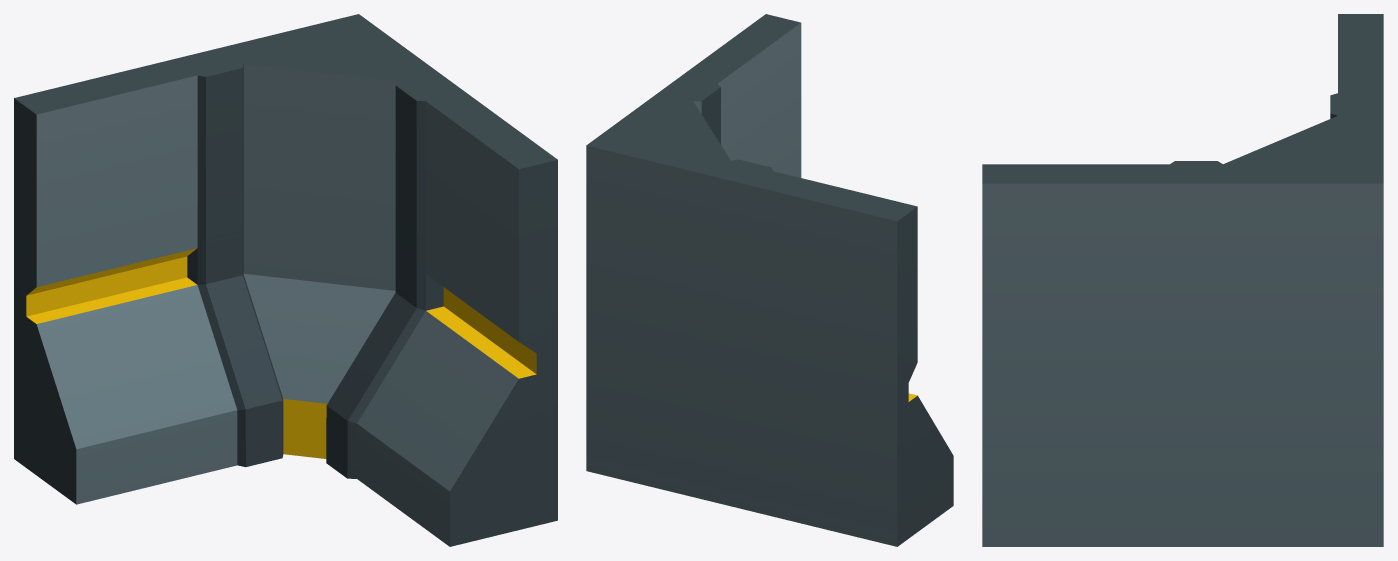
The model's file is Wall_type_C_028.fbx.
3 views of the same model, side by side, from view 1: azimuth 30°, elevation 25°; view 2: azimuth 150°, elevation 25°; view 3: azimuth 270°, elevation 25° (orthographic). The views are drawn at different scales.
Parts seen in each view (by area): view 1: Wall_type_C_028; view 2: Wall_type_C_028; view 3: Wall_type_C_028.
Boxes of the visible parts, box(x1,y1,x2,y2) form: Wall_type_C_028: box(14, 14, 557, 546); Wall_type_C_028: box(586, 14, 953, 546); Wall_type_C_028: box(982, 14, 1383, 546).
Size of the model in its own units: 150 by 150 by 150.
